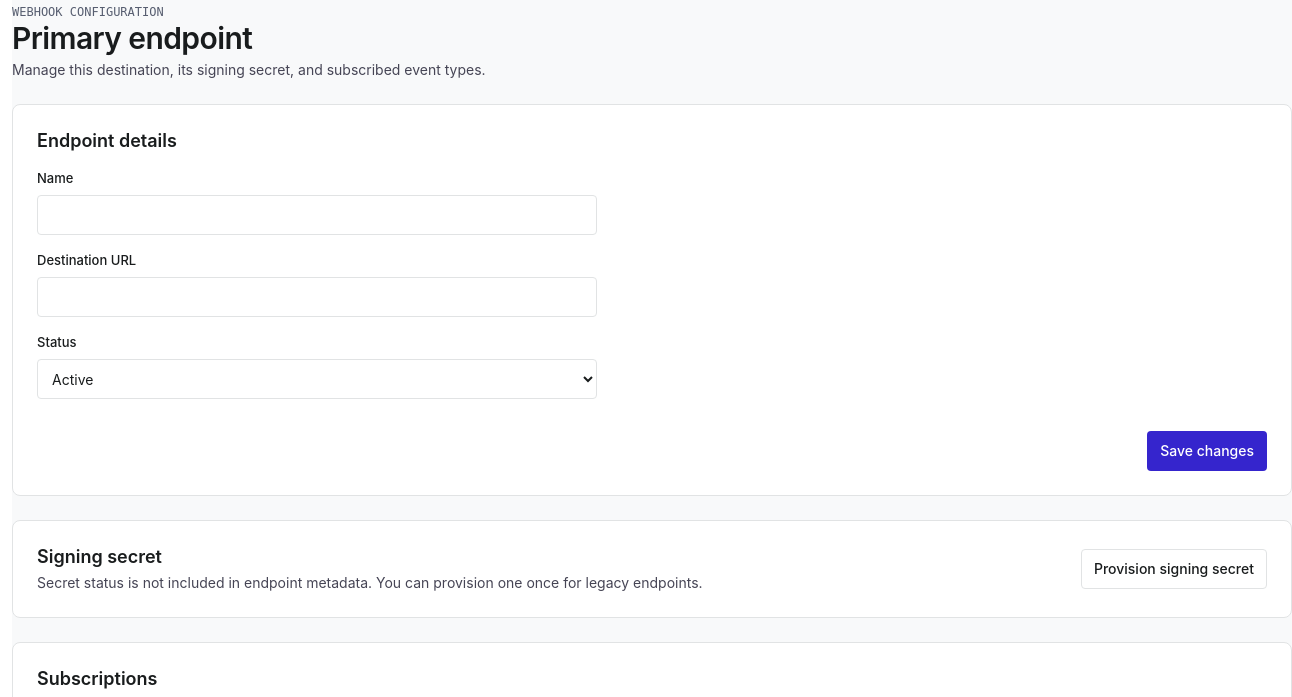
it: handles already-provisioned signing-secret conflict without a reveal
The image size is (1292, 697).
Expected: the heading "Primary endpoint" is shown, [12, 20, 252, 56]
Click the button "Provision signing secret": x=1174, y=569 [1081, 549, 1267, 589]
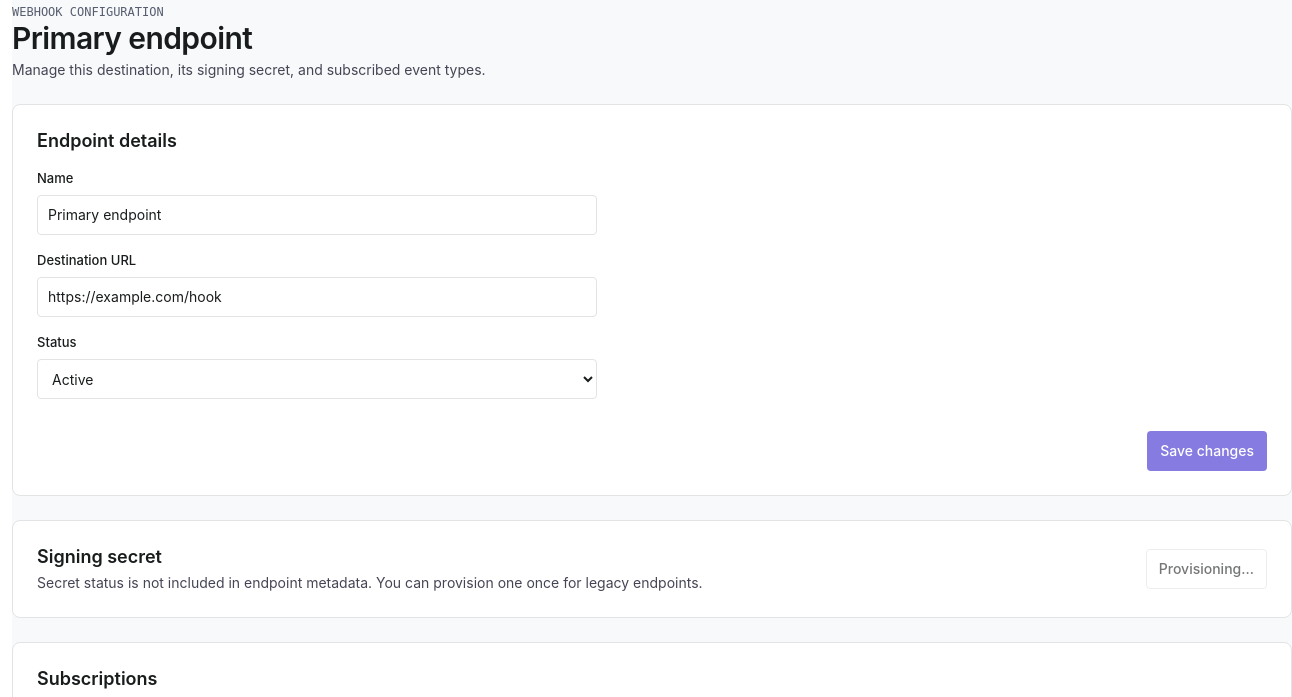
Click the button named "Provision signing secret": x=1206, y=569 [1146, 549, 1267, 589]
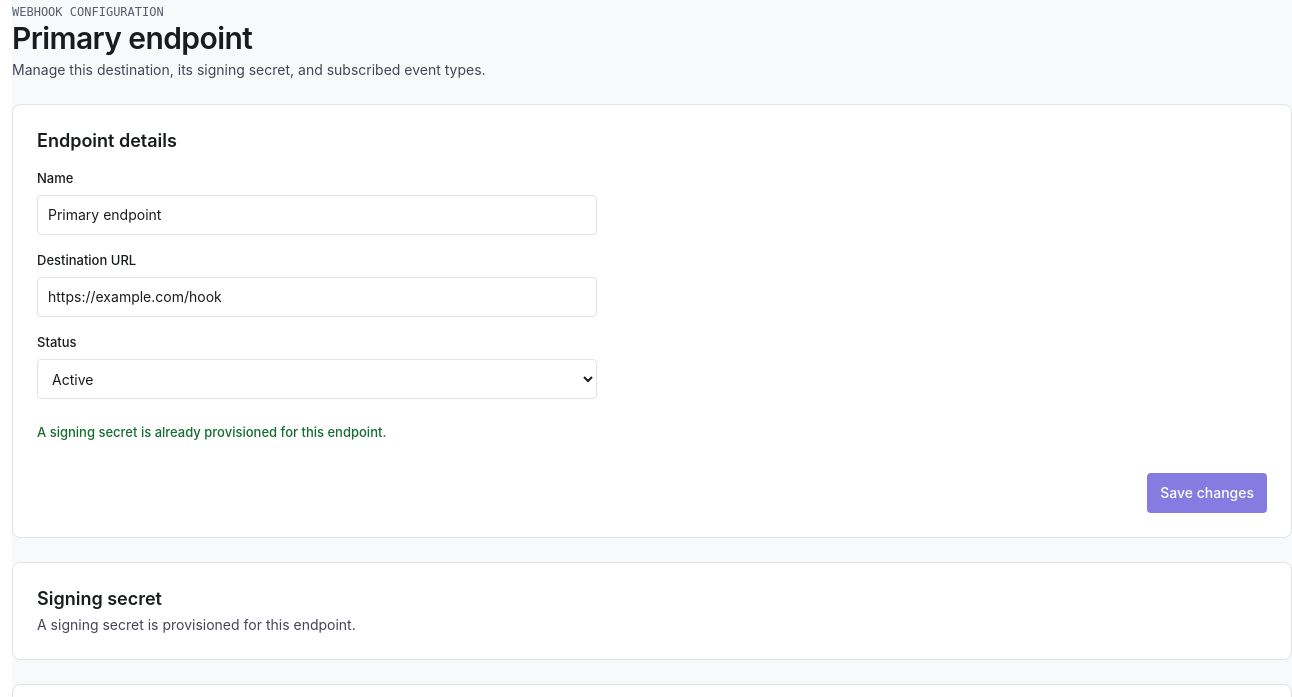
Expected: the text "A signing secret is already provisioned for this endpoint." is shown, [37, 424, 386, 440]
